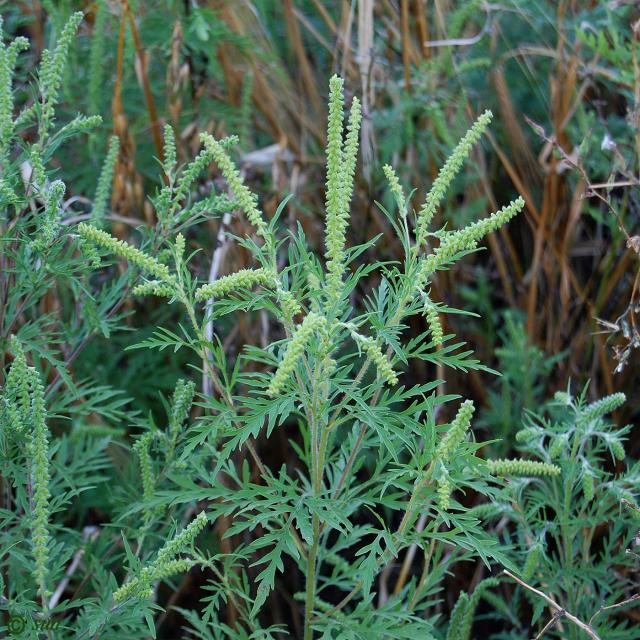ambrosia: (182, 90, 518, 401), (308, 25, 506, 464), (29, 169, 380, 399), (8, 342, 102, 598), (10, 5, 120, 141)
